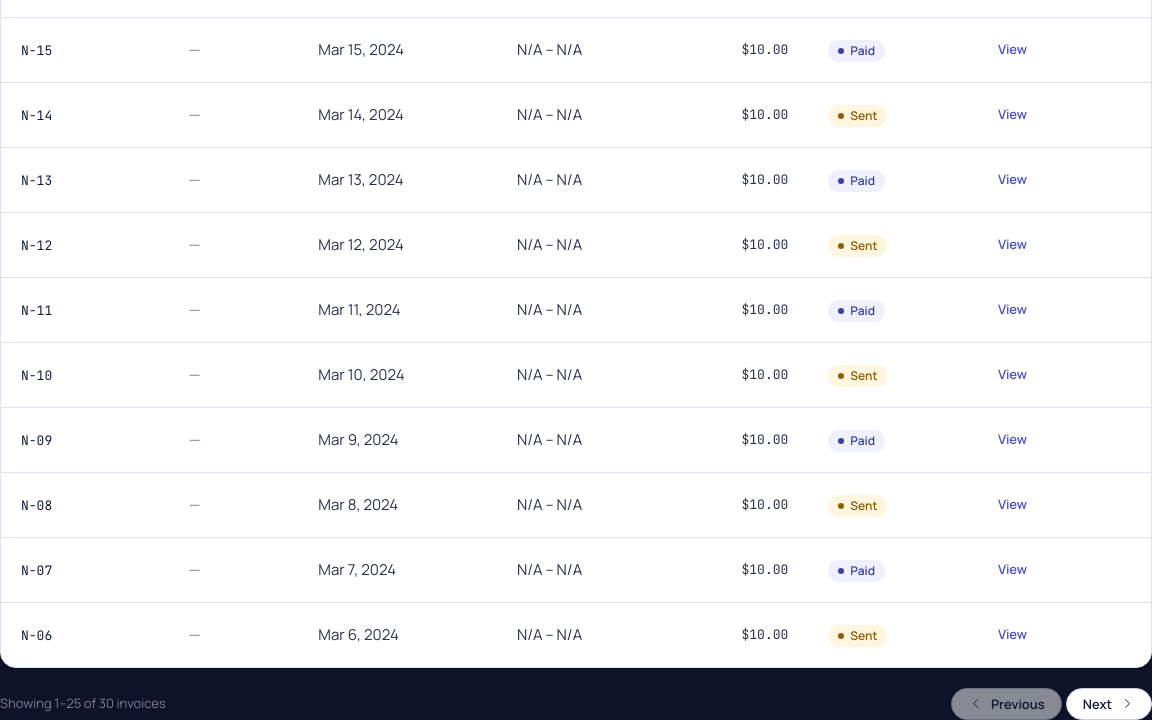
Test: Invoice List Page Integration › with more than one page of invoices › also returns to page 1 after a status chip
The image size is (1152, 720).
(page scrolled)
Expected: the text "Showing 1–25 of 30 invoices" is shown, 0,694 -> 166,714
Click the button with aria-label "Next page of invoices" at (1109, 704), box 1066,688 -> 1151,719
(page scrolled)
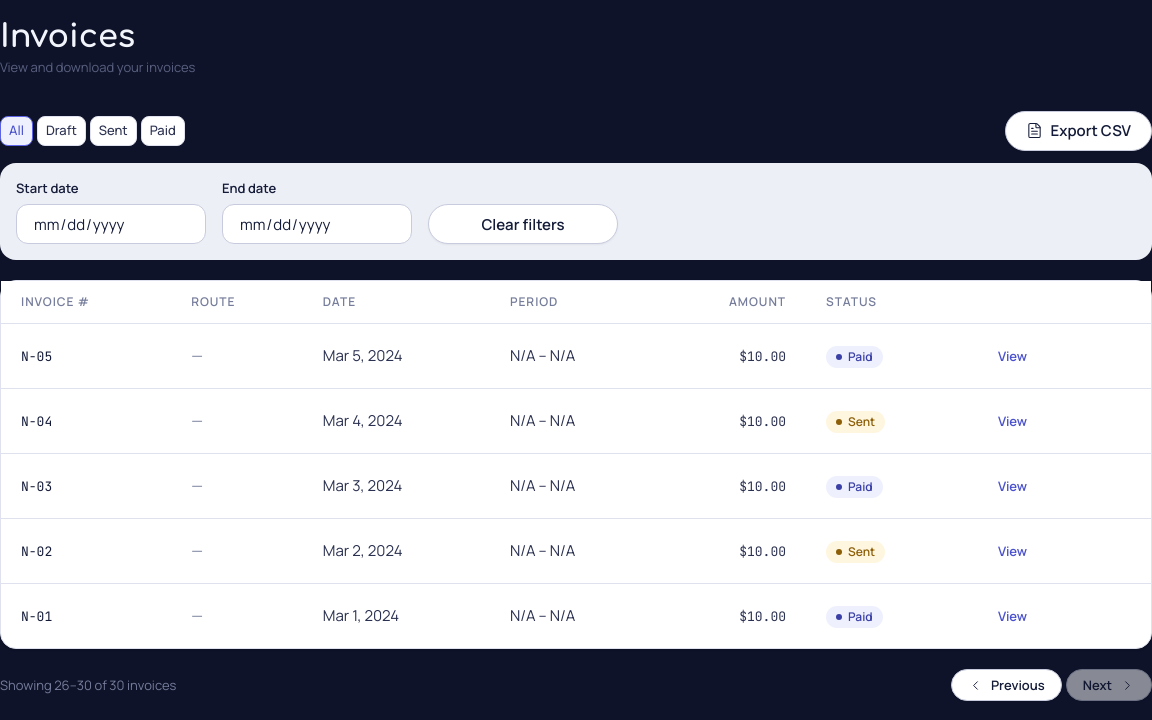
Expected: the text "Showing 26–30 of 30 invoices" is shown, 0,676 -> 176,695
Click the button "Paid" at (163, 131), box 141,116 -> 185,146
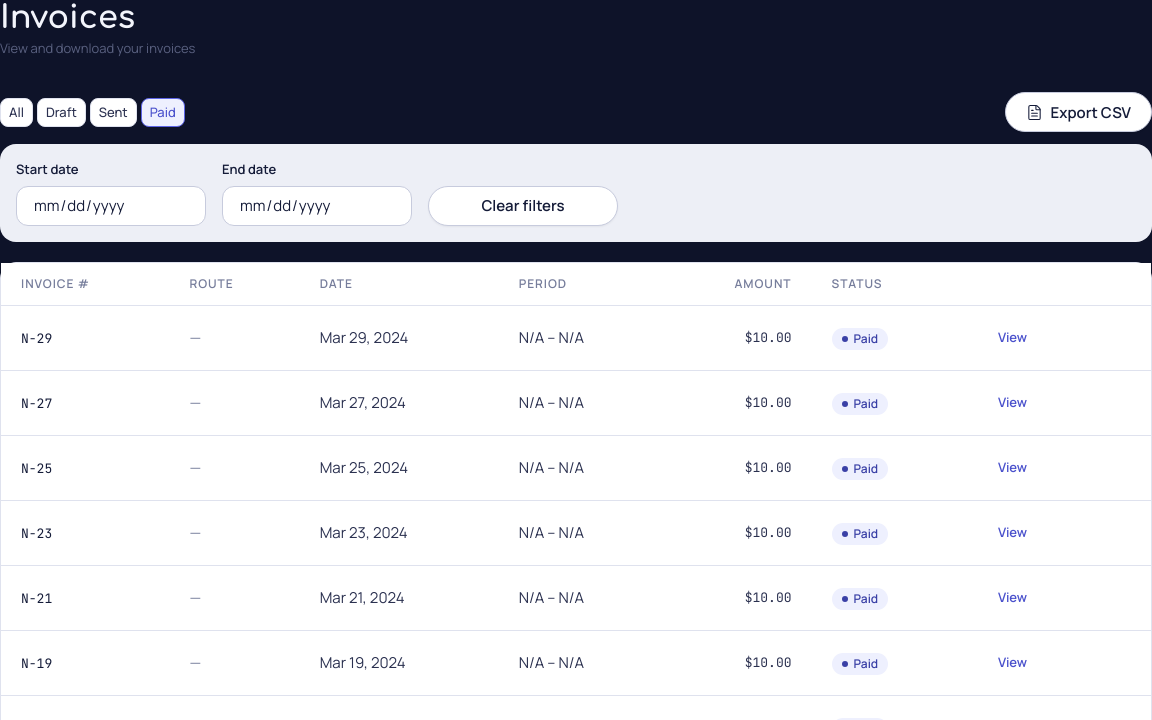
Click the button "All" at (16, 112), box 0,98 -> 33,127
(page scrolled)
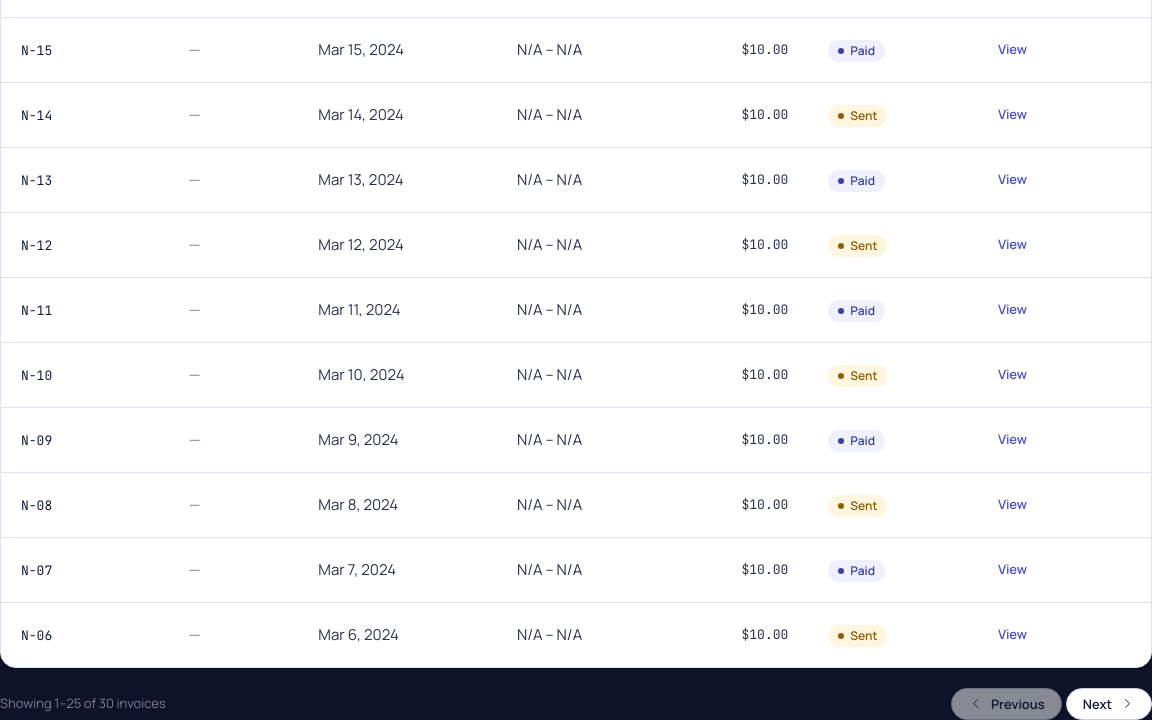
Expected: the text "Showing 1–25 of 30 invoices" is shown, 0,694 -> 166,714
